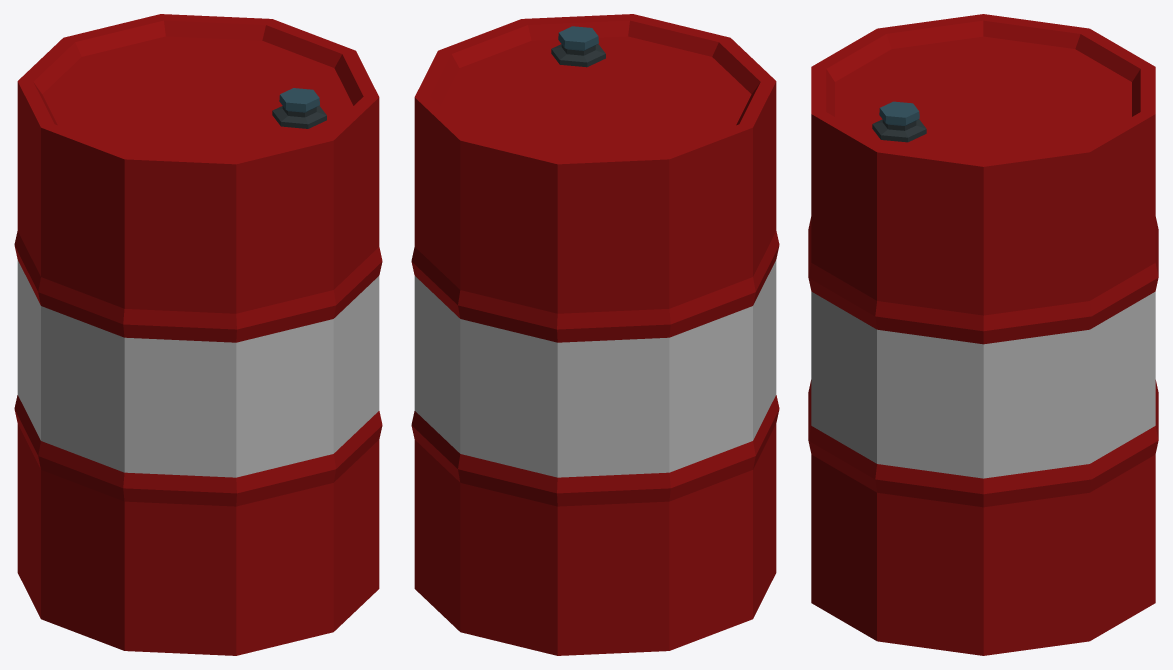
Rendered from FuelBarrelV1.glb.
The picture shows the model from 3 angles, left to right: view 1: azimuth 30°, elevation 25°; view 2: azimuth 150°, elevation 25°; view 3: azimuth 270°, elevation 25°; orthographic projection.
Parts seen in each view (by area): view 1: FuelBarrelV1; view 2: FuelBarrelV1; view 3: FuelBarrelV1.
Part boxes in pixels (<box>): FuelBarrelV1: <box>14,14,382,655</box>; FuelBarrelV1: <box>411,14,779,655</box>; FuelBarrelV1: <box>808,14,1158,655</box>.
Size of the model in its own units: 0.58 by 0.8664 by 0.5516.
Materials: 1 (1 with a texture image).
